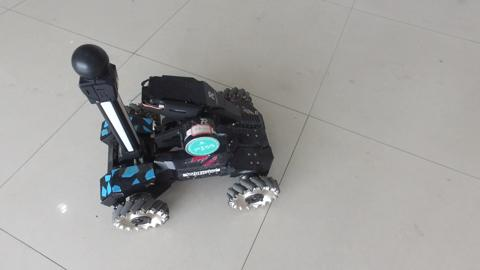chariot: (41, 65, 275, 220)
